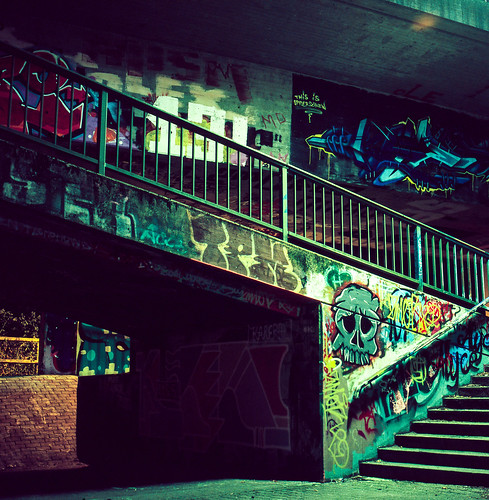graffiti: (1, 30, 483, 200), (135, 349, 310, 474), (328, 281, 473, 423)
